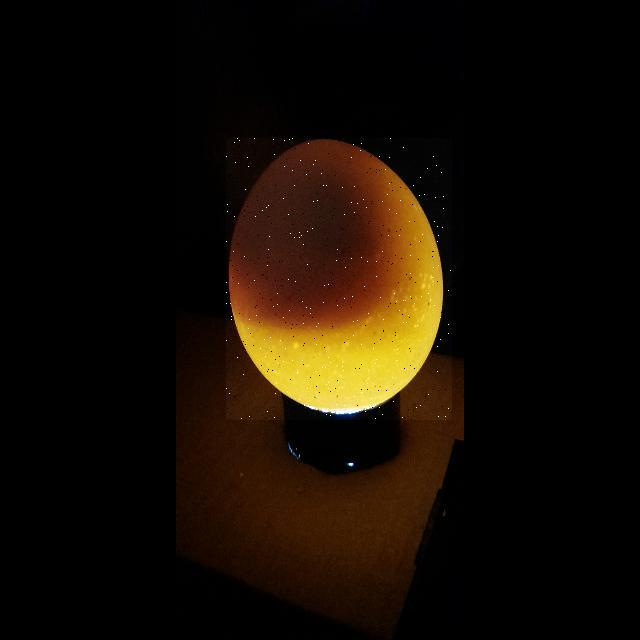Infertile: (226, 138, 452, 420)
